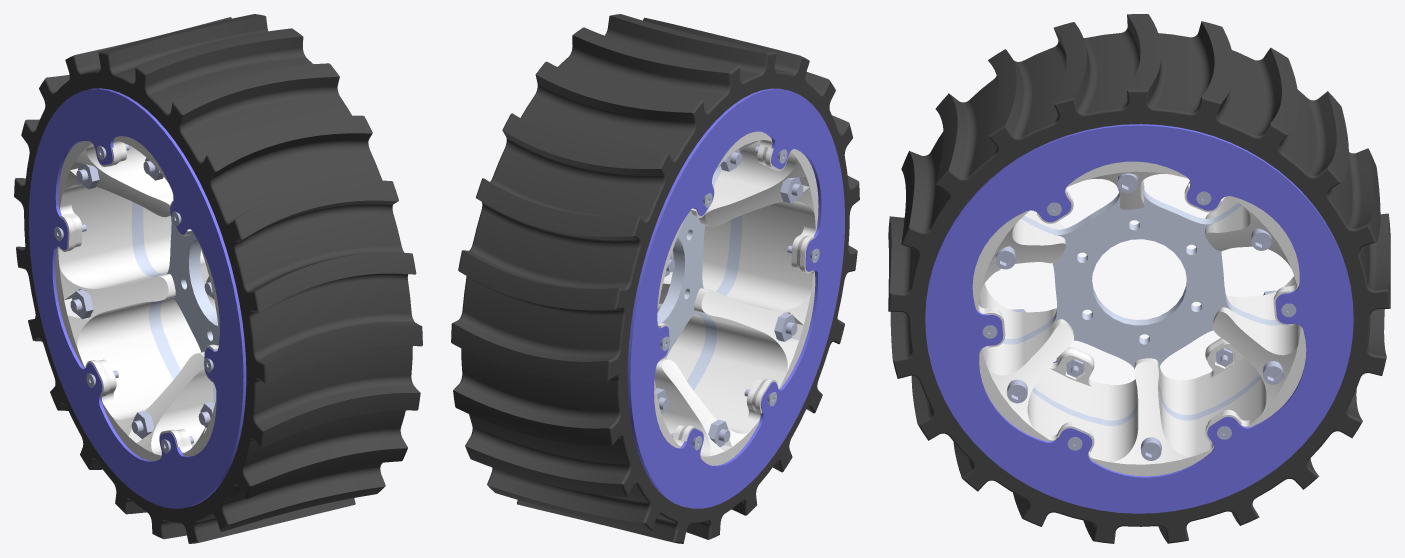
The model's file is Back Right Wheel.glb.
3 views of the same model, side by side, from view 1: azimuth 30°, elevation 25°; view 2: azimuth 150°, elevation 25°; view 3: azimuth 270°, elevation 25° (orthographic).
Parts seen in each view (by area): view 1: Back Right Wheel; view 2: Back Right Wheel; view 3: Back Right Wheel.
Boxes of the visible parts, left/top/right/bottom form: Back Right Wheel: left=14, top=14, right=422, bottom=543; Back Right Wheel: left=451, top=14, right=859, bottom=543; Back Right Wheel: left=888, top=14, right=1390, bottom=543.
Bounding box in the file's own units: 0.0744 × 0.1893 × 0.1895.
